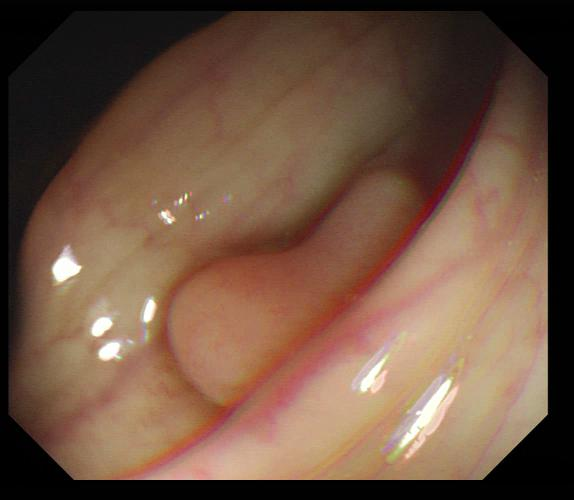polyp: (161, 170, 418, 416)
